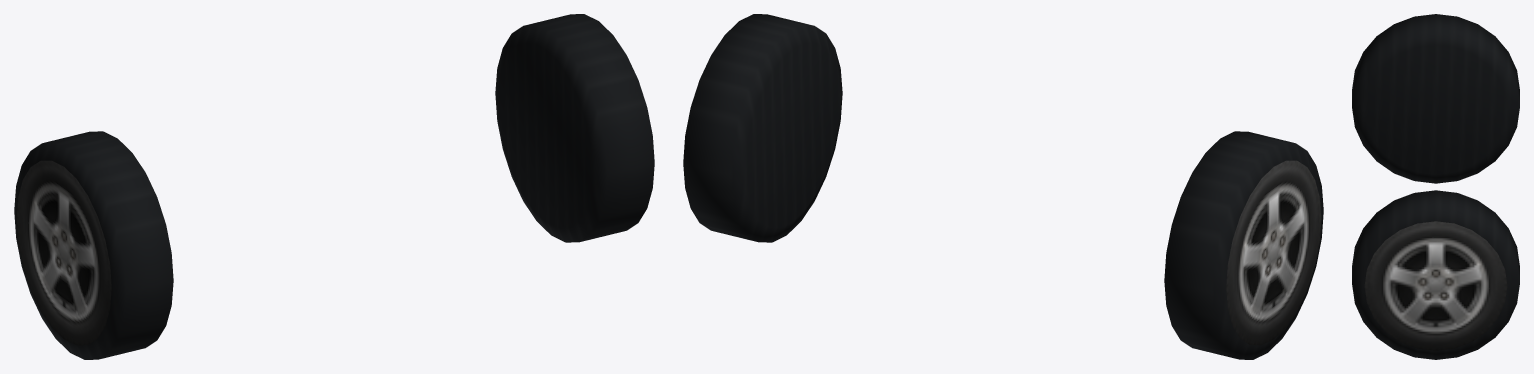
The model's file is sedan_98_wheels_f.obj.
3 views of the same model, side by side, from view 1: azimuth 30°, elevation 25°; view 2: azimuth 150°, elevation 25°; view 3: azimuth 270°, elevation 25° (orthographic). The views are drawn at different scales.
Visible parts, largest first — view 1: sedan_98_wheels_f; view 2: sedan_98_wheels_f; view 3: sedan_98_wheels_f.
Part boxes in pixels (<box>): sedan_98_wheels_f: <box>14,14,654,359</box>; sedan_98_wheels_f: <box>683,14,1323,359</box>; sedan_98_wheels_f: <box>1352,14,1519,359</box>.
Size of the model in its own units: 1.74 by 0.6236 by 0.6236.
